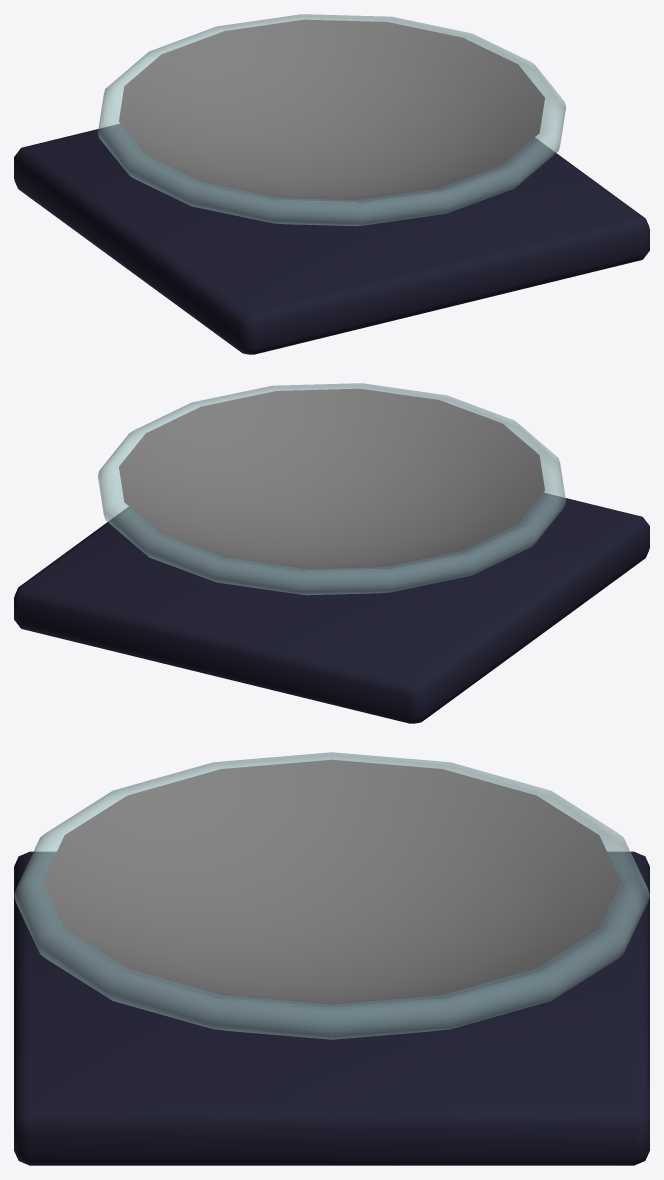
File: LastLuna_Model_Station_Dryer.fbx
3 renders of one model, top to bottom at view 1: azimuth 30°, elevation 25°; view 2: azimuth 150°, elevation 25°; view 3: azimuth 270°, elevation 25°, orthographic. The views are drawn at different scales.
Visible parts, largest first — view 1: Stand_Base_Small001, Watch_Glass_Content001, Watch_Glass001; view 2: Stand_Base_Small001, Watch_Glass_Content001, Watch_Glass001; view 3: Stand_Base_Small001, Watch_Glass_Content001, Watch_Glass001.
Part boxes in pixels (x1,y1,x2,y2): Stand_Base_Small001: [14, 124, 649, 354]; Watch_Glass_Content001: [119, 19, 544, 200]; Watch_Glass001: [98, 14, 565, 226]; Stand_Base_Small001: [14, 493, 649, 723]; Watch_Glass_Content001: [119, 388, 544, 569]; Watch_Glass001: [98, 383, 565, 595]; Stand_Base_Small001: [14, 851, 649, 1165]; Watch_Glass_Content001: [42, 759, 621, 1004]; Watch_Glass001: [14, 752, 649, 1039].
Bounding box in the file's own units: 100 × 27.08 × 100.
